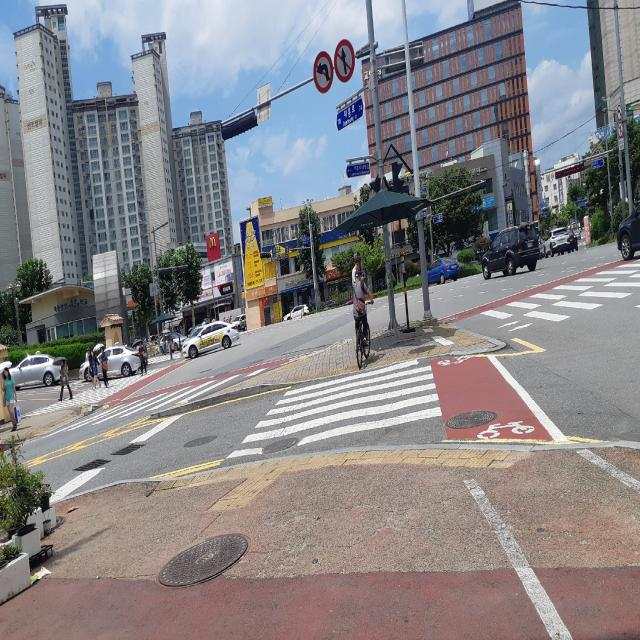횡단보도: (226, 358, 443, 459), (474, 257, 640, 339), (59, 362, 231, 429)
